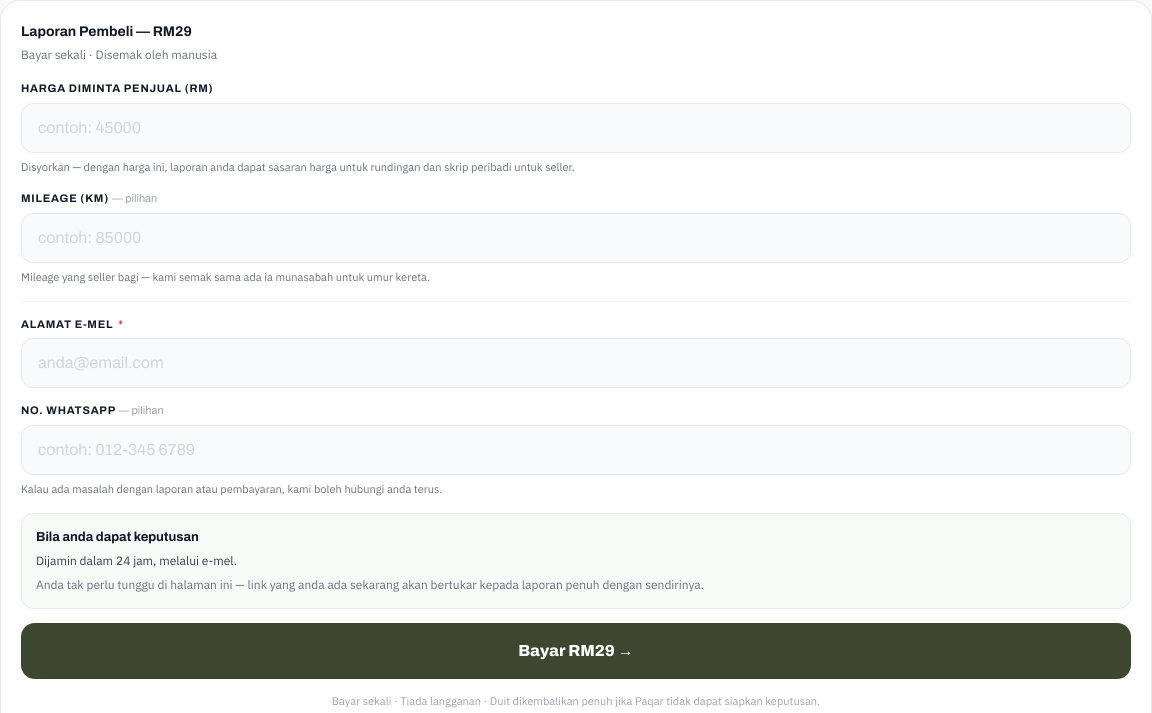
Test: an implausible mileage is questioned, not swallowed › clears once the value is corrected
In the number field labelled "Mileage (km) — pilihan": (576, 238) top-left (21, 213), bottom-right (1131, 263), type "700000"
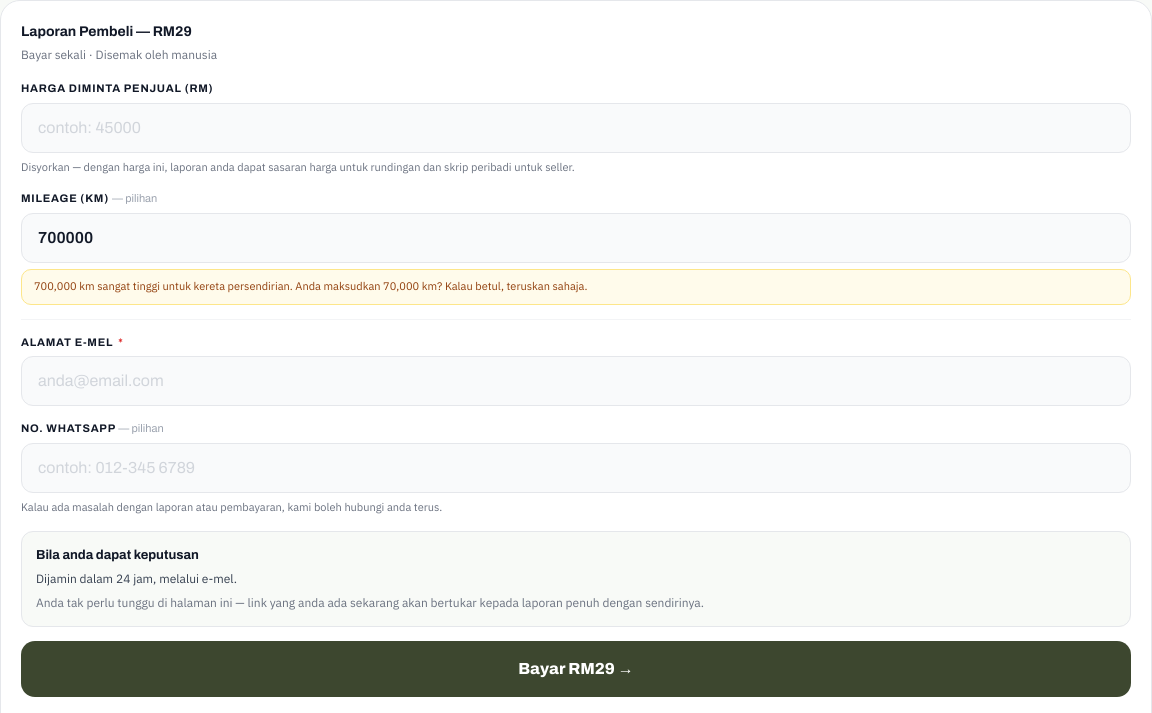
Now the text "sangat tinggi" is shown, box top-left (34, 279), bottom-right (588, 293)
Replace the text in the number field labelled "Mileage (km) — pilihan" with "70000": (576, 238) top-left (21, 213), bottom-right (1131, 263)
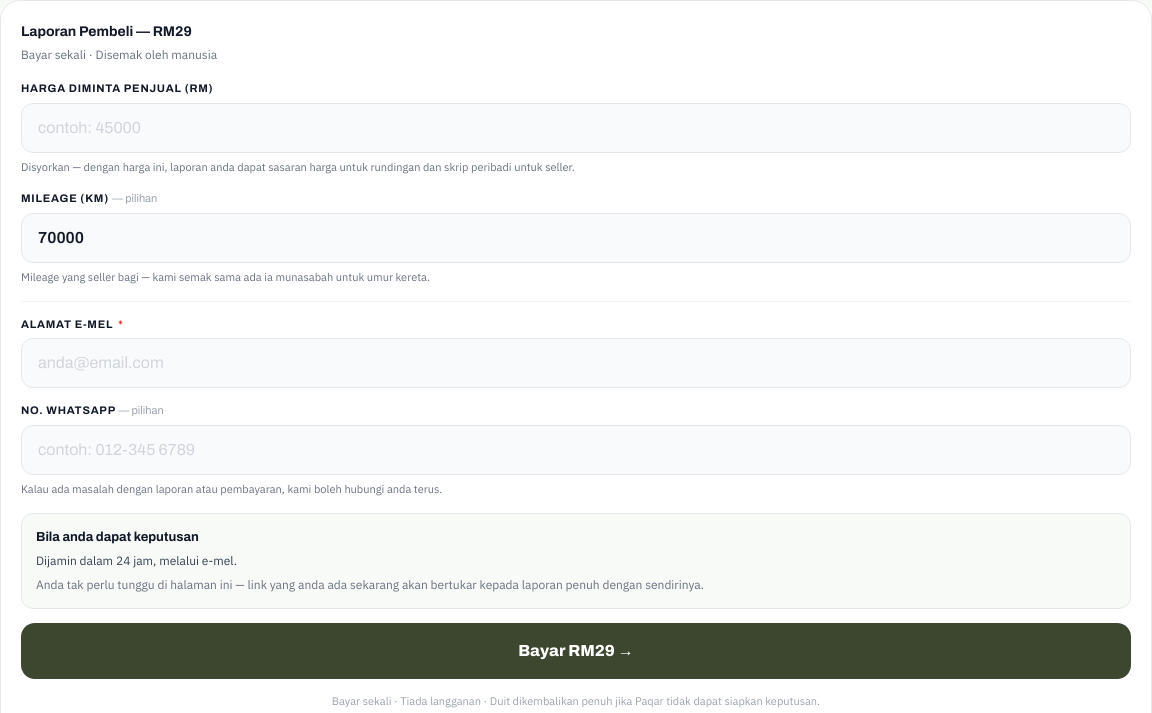
Now the text "sangat tinggi" is gone
